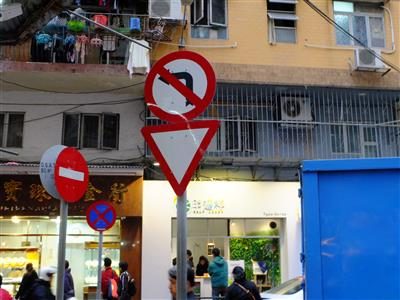noEntry: (53, 142, 92, 204)
noLeftTurn: (140, 49, 217, 122)
noStopping: (85, 200, 117, 230)
yield: (138, 119, 221, 196)
